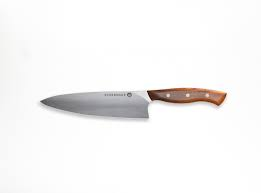knife: (35, 80, 232, 121)
